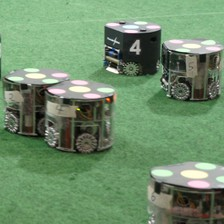robot: (42, 76, 119, 156), (144, 156, 224, 224), (157, 37, 224, 101), (98, 16, 160, 77), (1, 64, 46, 138)
